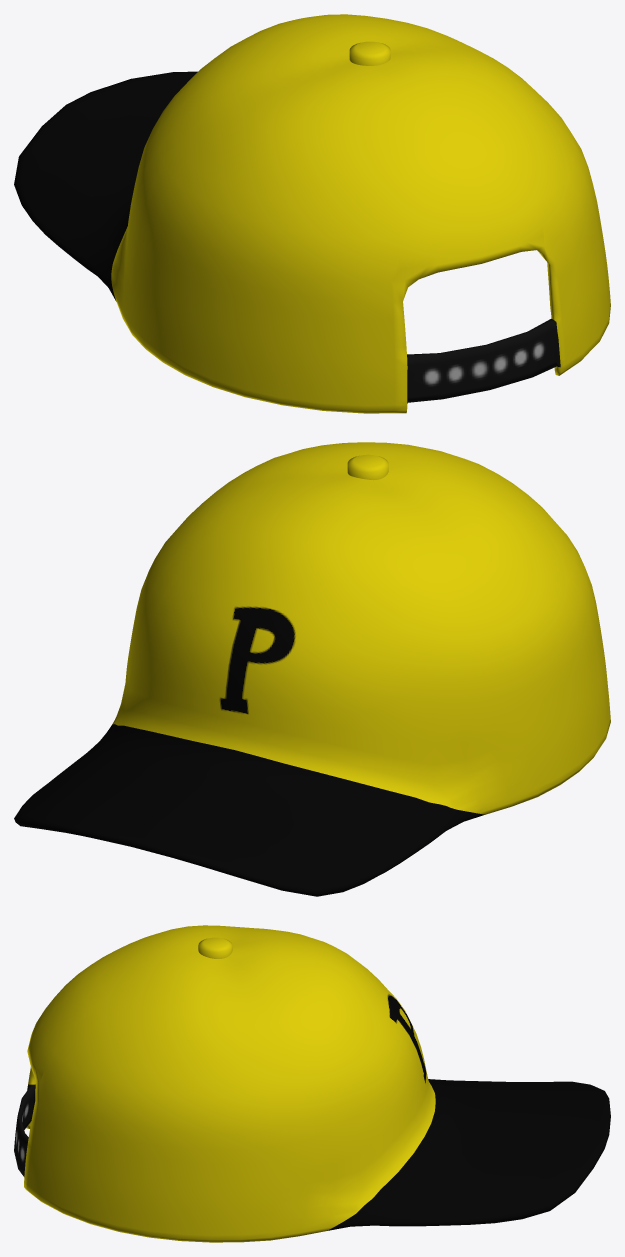
File: Baseball Hat.fbx
3 views of the same model, one above another, from view 1: azimuth 30°, elevation 25°; view 2: azimuth 150°, elevation 25°; view 3: azimuth 270°, elevation 25° (orthographic). The views are drawn at different scales.
Visible parts, largest first — view 1: Baseball Hat; view 2: Baseball Hat; view 3: Baseball Hat.
Boxes of the visible parts, box(x1,y1,x2,y2) form: Baseball Hat: box(14, 14, 610, 413); Baseball Hat: box(14, 442, 610, 896); Baseball Hat: box(14, 925, 610, 1242).
Size of the model in its own units: 212 by 127 by 316.
